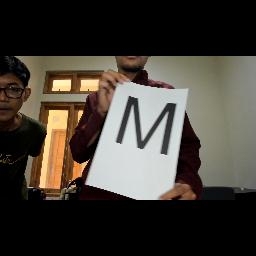m: (116, 94, 176, 168)
